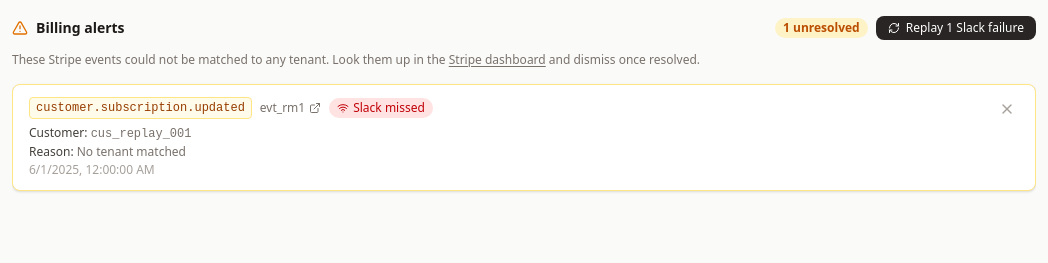
Scenario: BillingAlerts — replay result banner shows correct counts after a partial replay › shows singular '✓ 1 alert replayed to Slack' when replayed is 1
The width and height of the screenshot is (1048, 263).
Click the button "Replay 1 Slack failure" at (956, 28), box x1=876 y1=16 x2=1036 y2=40
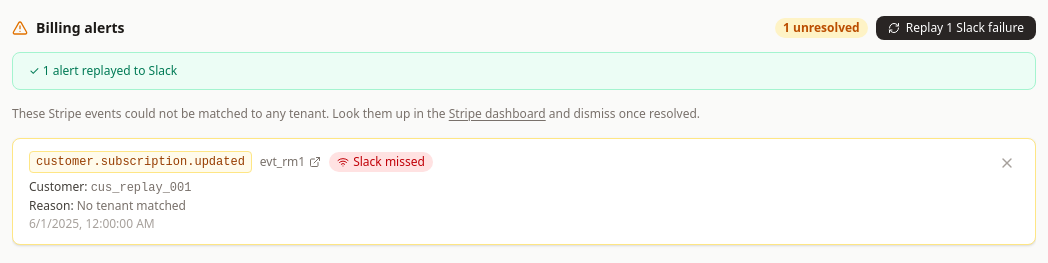
expect the text "✓ 1 alert replayed to Slack" is shown: met, box x1=29 y1=62 x2=177 y2=79
